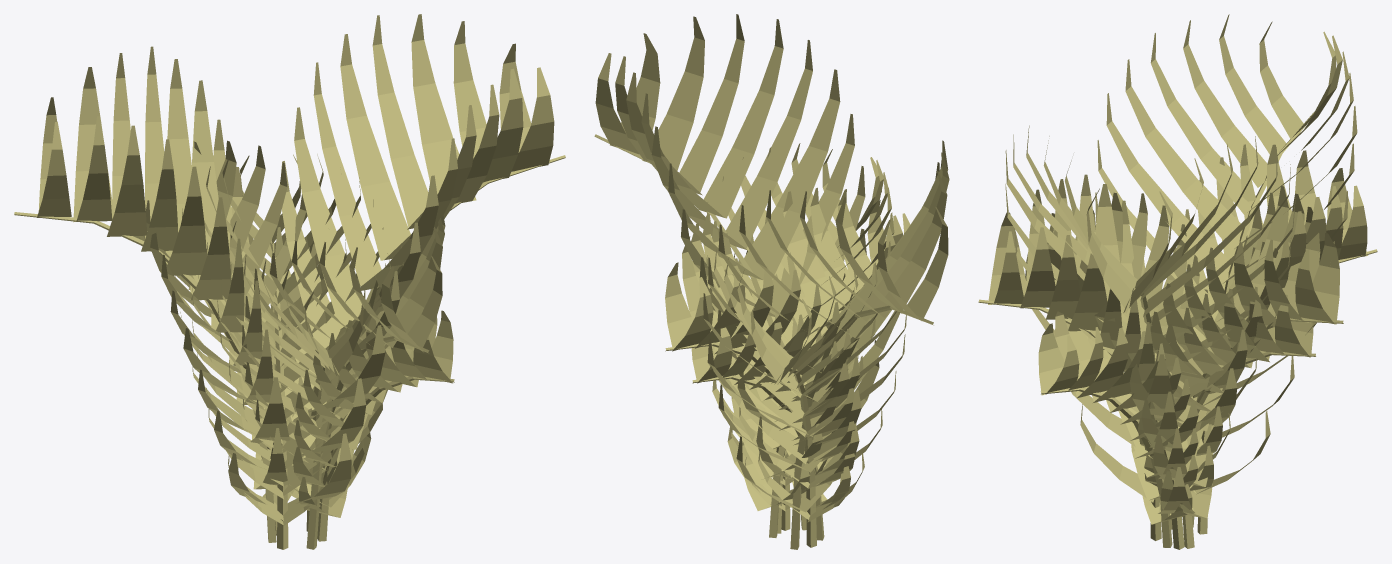
Rendered from temperate-forest-ecology-bracken-clump-15ed29ef__3844.glb.
3 renders of one model, left to right at view 1: azimuth 30°, elevation 25°; view 2: azimuth 150°, elevation 25°; view 3: azimuth 270°, elevation 25°, orthographic. The views are drawn at different scales.
Visible parts, largest first — view 1: bracken-clump; view 2: bracken-clump; view 3: bracken-clump.
Boxes of the visible parts, x1,y1,x2,y2 form: bracken-clump: [14, 14, 565, 549]; bracken-clump: [594, 14, 949, 549]; bracken-clump: [978, 14, 1377, 549].
Bounding box in the file's own units: 1.32 × 1.31 × 1.02.
